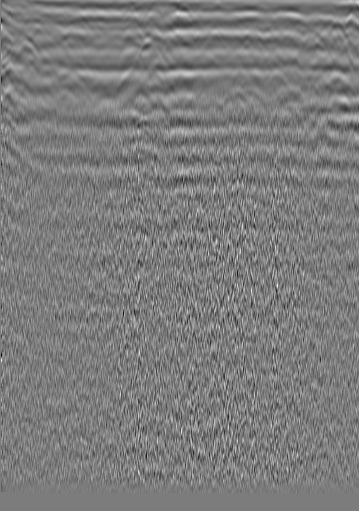가스: (124, 140, 159, 168)
상수: (305, 27, 325, 47)
오수: (29, 19, 49, 39)
우수: (171, 10, 191, 30)
